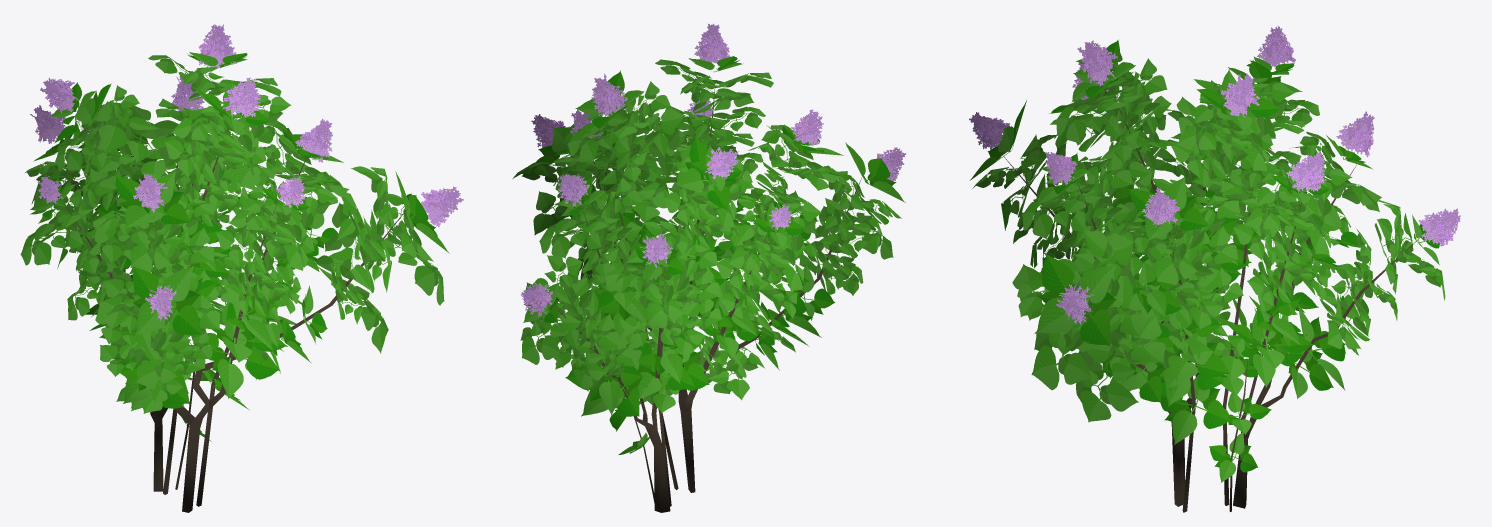
The model's file is PT_Lilac_01.fbx.
3 views of the same model, side by side, from view 1: azimuth 30°, elevation 25°; view 2: azimuth 150°, elevation 25°; view 3: azimuth 270°, elevation 25° (orthographic). The views are drawn at different scales.
Parts seen in each view (by area): view 1: PT_Lilac_01_LOD0; view 2: PT_Lilac_01_LOD0; view 3: PT_Lilac_01_LOD0.
Boxes of the visible parts, x1,y1,x2,y2 form: PT_Lilac_01_LOD0: (20,24,463,512); PT_Lilac_01_LOD0: (512,23,905,512); PT_Lilac_01_LOD0: (969,26,1460,512).
Size of what is drawn, in the model's own units: 294 by 342 by 336.
